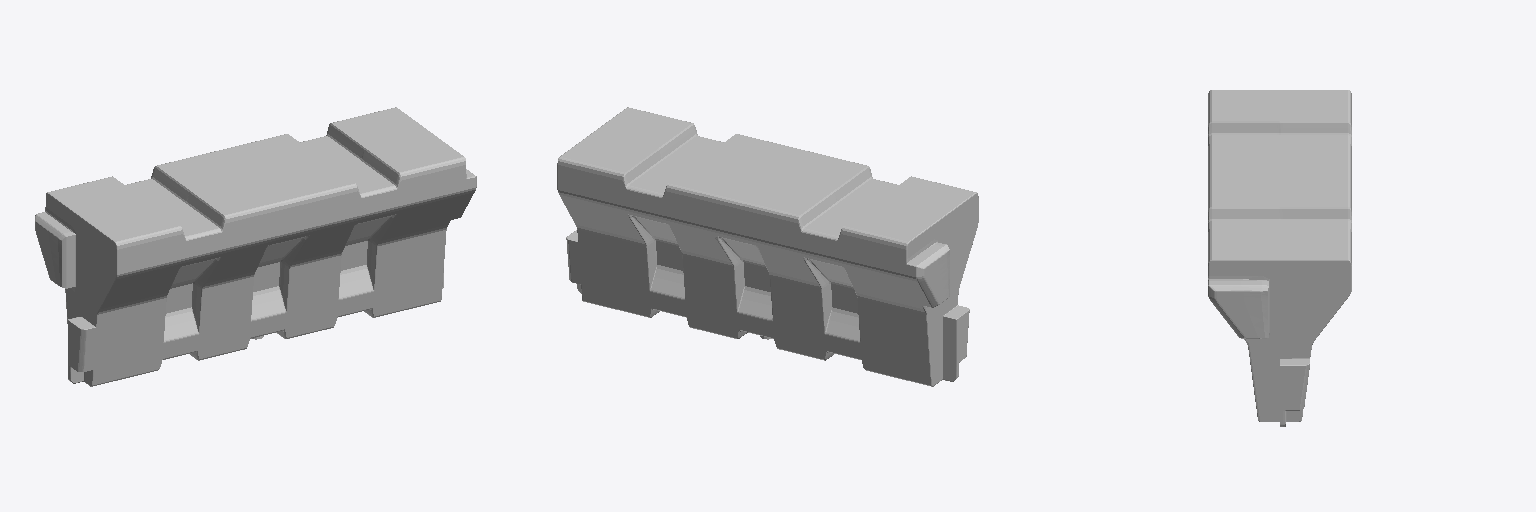
The model's file is barricade.obj.
3 renders of one model, left to right at view 1: azimuth 30°, elevation 25°; view 2: azimuth 150°, elevation 25°; view 3: azimuth 270°, elevation 25°, orthographic.
Visible parts, largest first — view 1: Object.1; view 2: Object.1; view 3: Object.1.
Part boxes in pixels (left/top/right/bottom): Object.1: left=35, top=107, right=476, bottom=386; Object.1: left=557, top=107, right=978, bottom=386; Object.1: left=1208, top=90, right=1351, bottom=426.
Size of the model in its own units: 6.38 by 2.63 by 2.11.